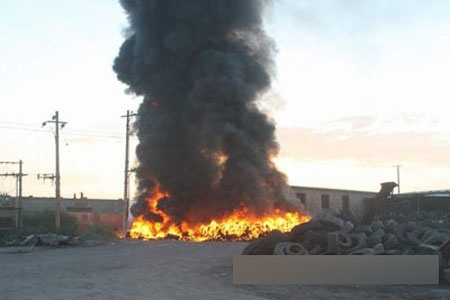fire: (122, 198, 312, 241)
